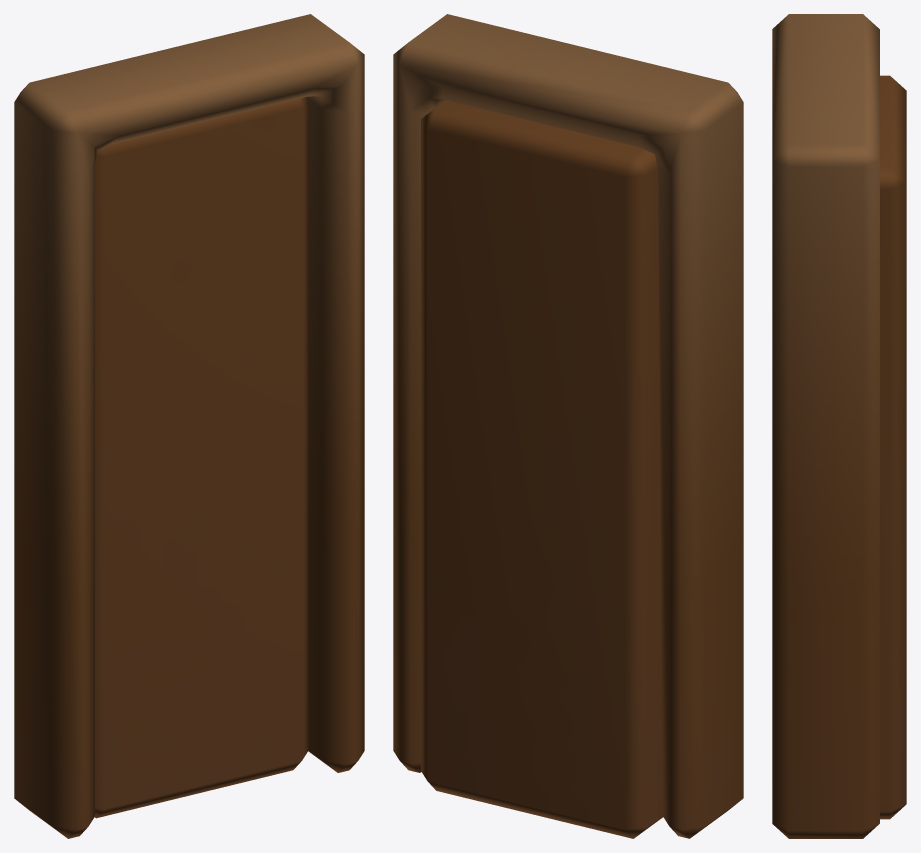
Rendered from SM_Clay_Door_07.fbx.
3 views of the same model, side by side, from view 1: azimuth 30°, elevation 25°; view 2: azimuth 150°, elevation 25°; view 3: azimuth 270°, elevation 25° (orthographic). The views are drawn at different scales.
Visible parts, largest first — view 1: SM_Clay_Door_07; view 2: SM_Clay_Door_07; view 3: SM_Clay_Door_07.
Boxes of the visible parts, box(x1,y1,x2,y2) form: SM_Clay_Door_07: box(14, 14, 364, 838); SM_Clay_Door_07: box(393, 14, 743, 838); SM_Clay_Door_07: box(772, 14, 906, 838).
Bounding box in the file's own units: 0.2935 × 0.6547 × 0.1151.
